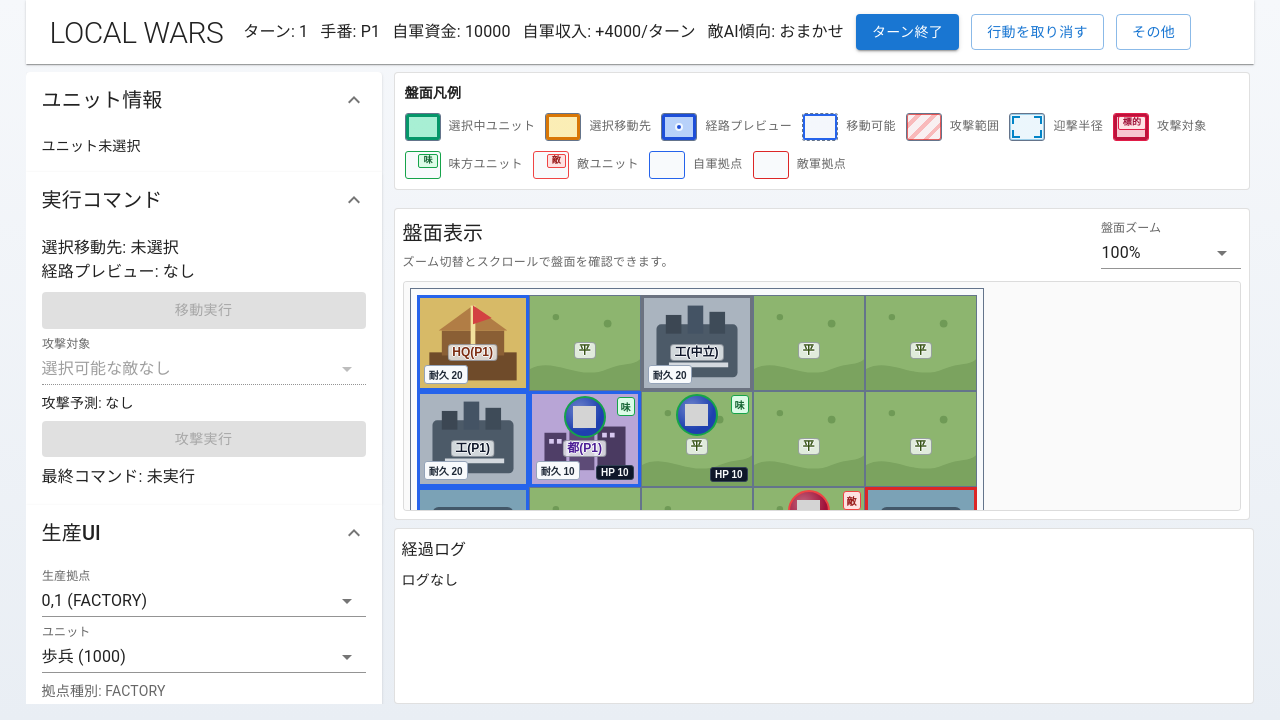
BattleScreen UIテスト: コマンド操作(輸送) › 輸送ユニット選択時は搭載と降車の導線が表示される
The image size is (1280, 720).
Click the button with aria-label "タイル 2,1" at (697, 439), box [641,391,753,487]
(page scrolled)
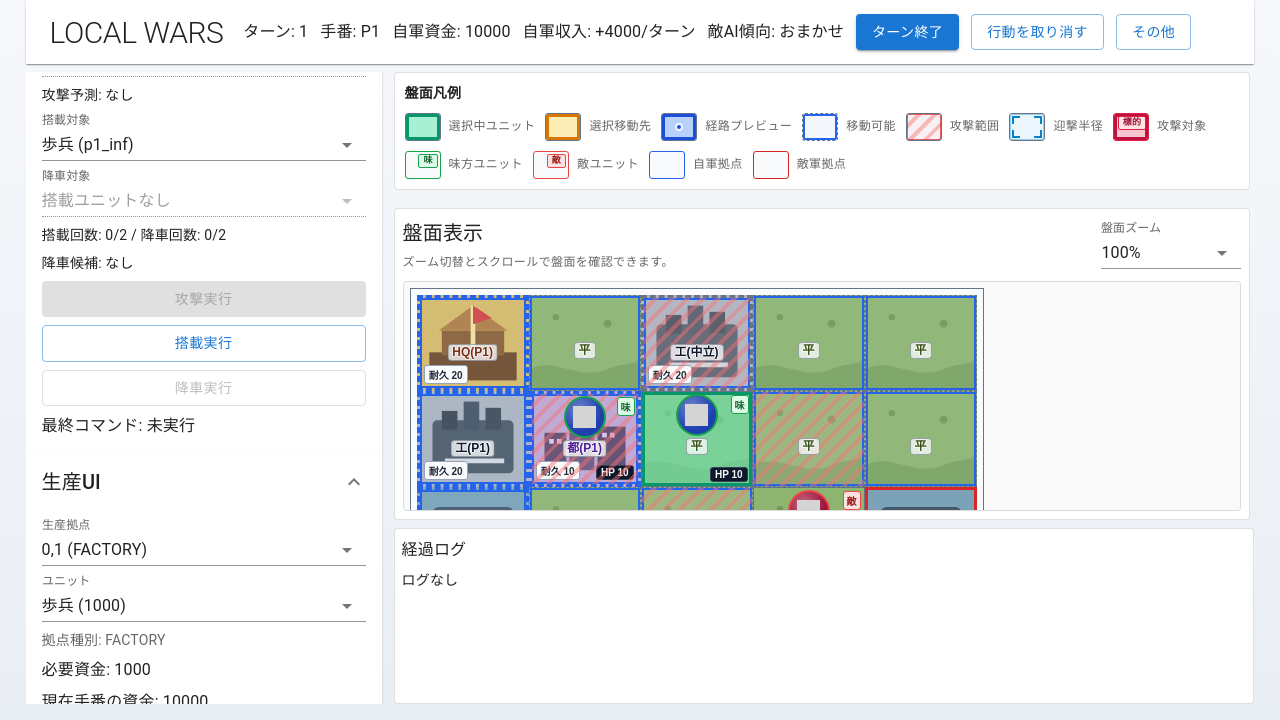
Check: the dropdown labelled "搭載対象" is shown, box [42,128,366,160]
Check: the button "搭載実行" is enabled, box [42,325,366,362]
Check: the button "降車実行" is disabled, box [42,370,366,406]
